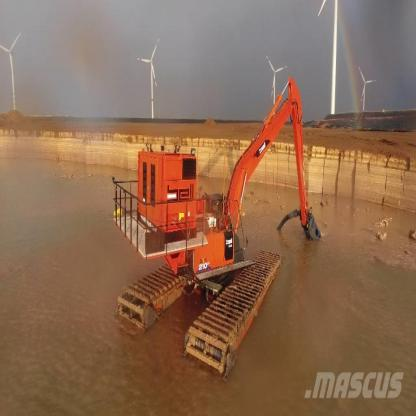excavator: (100, 51, 335, 378)
